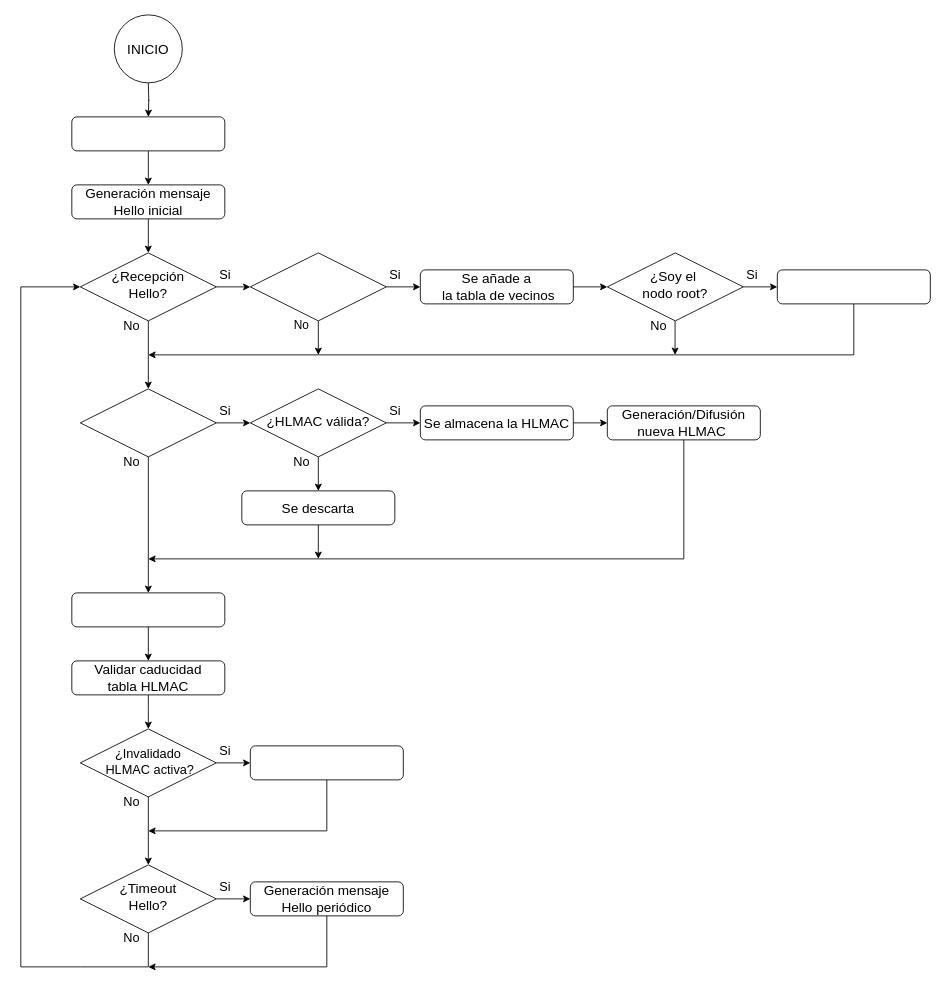
Some shapes in this 945 by 989 pixel diagram are drawn without their labels. The centre of each missing label's shape, as x and y in pixels:
Inicio timers de SetHLMAC y Hello: point 148,133
Reconfiguración MAC destino local port: point 326,762
Se genera HLMAC inicial: point 853,286
Validar caducidad tabla de vecinos: point 148,609
¿Es un vecino nuevo?: point 317,286
¿Recepción HLMAC?: point 147,422
